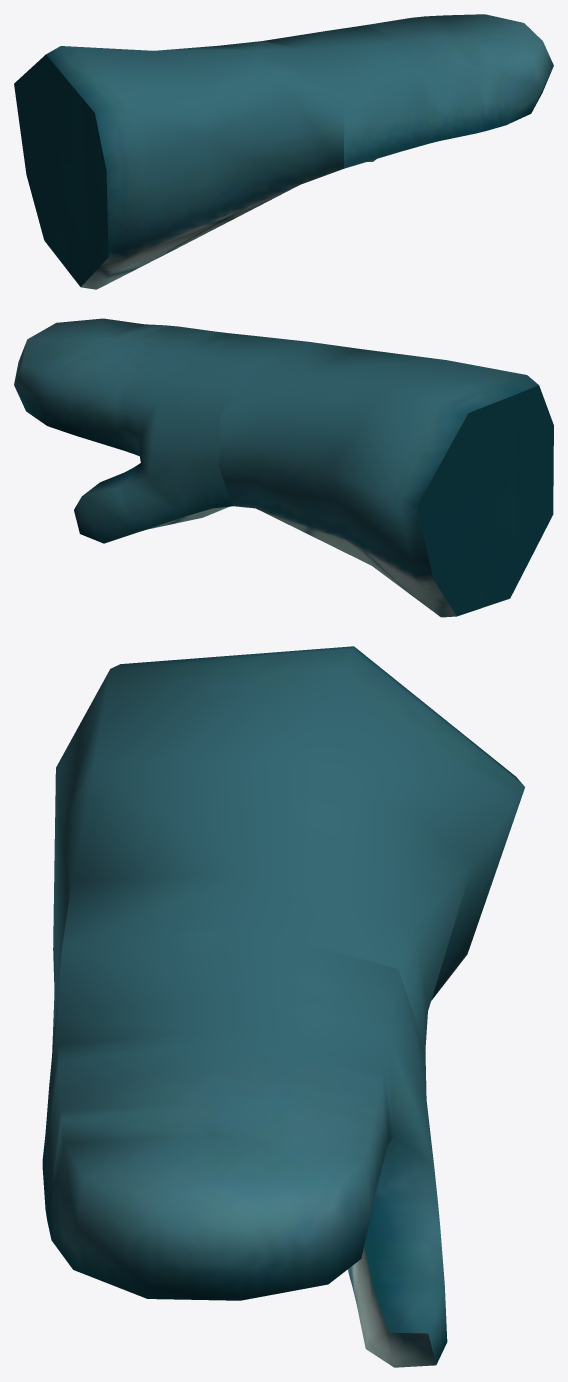
The model's file is prop_mitts.obj.
The picture shows the model from 3 angles, top to bottom: view 1: azimuth 30°, elevation 25°; view 2: azimuth 150°, elevation 25°; view 3: azimuth 270°, elevation 25°; orthographic projection. The views are drawn at different scales.
Parts seen in each view (by area): view 1: oven_mitts_emp001; view 2: oven_mitts_emp001; view 3: oven_mitts_emp001.
Boxes of the visible parts, x1=… form: oven_mitts_emp001: x1=14, y1=14, x2=553, y2=289; oven_mitts_emp001: x1=14, y1=318, x2=553, y2=617; oven_mitts_emp001: x1=42, y1=646, x2=524, y2=1367.
Size of the model in its own units: 3.44 by 1.5 by 1.52.
Materials: 1 (1 with a texture image).
